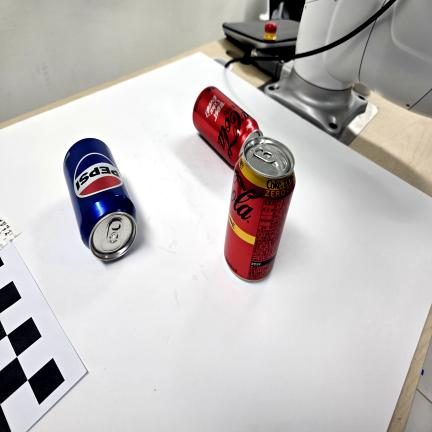can_coke_decaf: (223, 137, 296, 280)
can_coke_zero: (193, 84, 264, 168)
can_pepsi: (62, 137, 138, 262)
